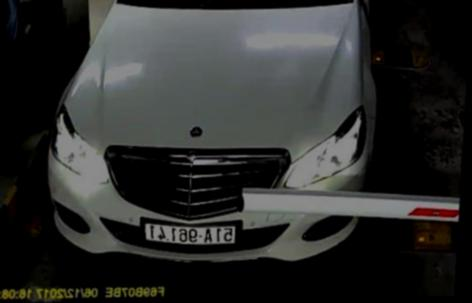License_Plate: (134, 218, 237, 247)
